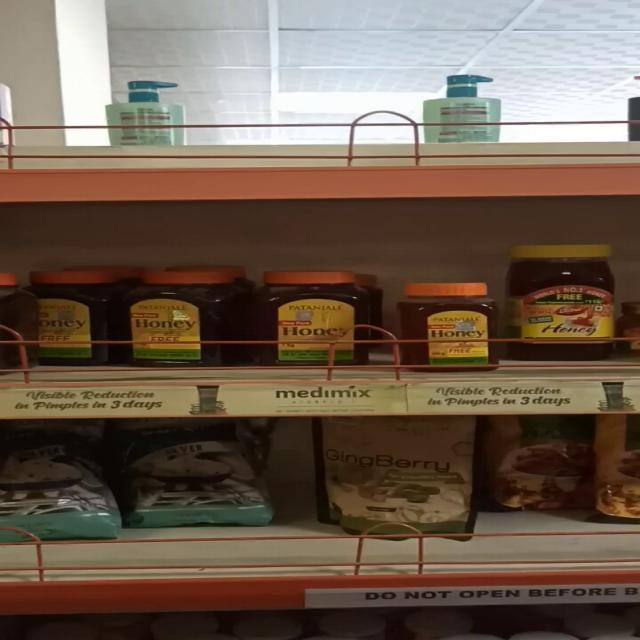Dabur Honey: (516, 244, 638, 358)
Patanjali Honey: (266, 266, 371, 362), (394, 278, 507, 365), (128, 268, 228, 360), (20, 266, 106, 366)
